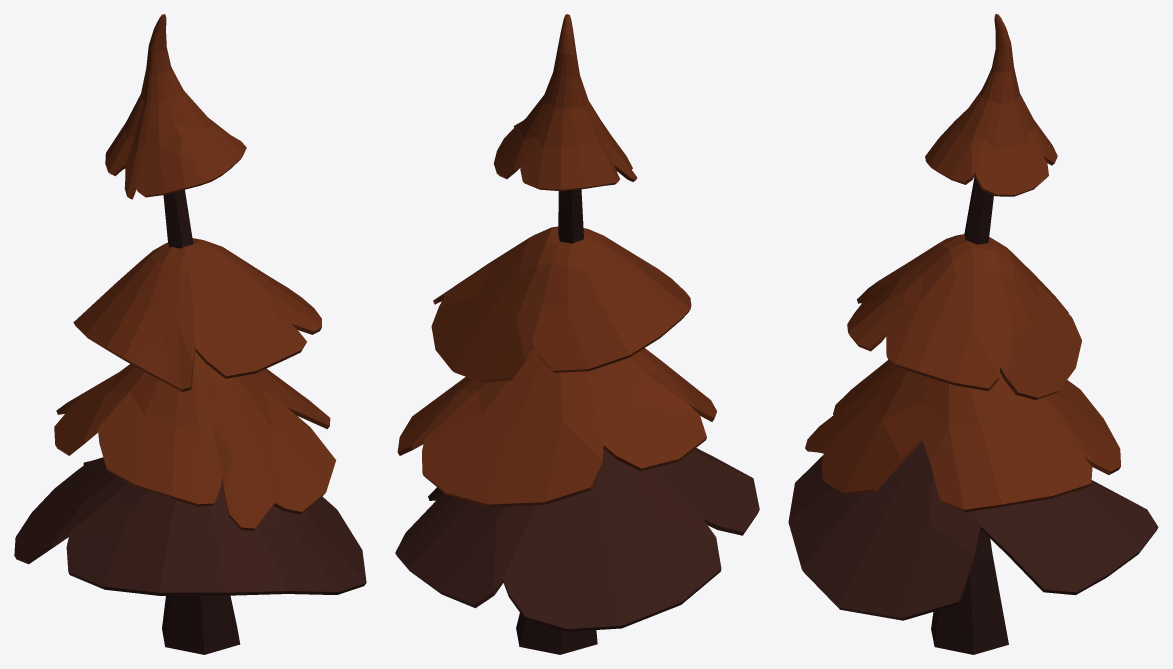
The model's file is PineTree_Autumn_2.obj.
3 views of the same model, side by side, from view 1: azimuth 30°, elevation 25°; view 2: azimuth 150°, elevation 25°; view 3: azimuth 270°, elevation 25° (orthographic). The views are drawn at different scales.
Visible parts, largest first — view 1: PineTree_Autumn_2_Cylinder.064; view 2: PineTree_Autumn_2_Cylinder.064; view 3: PineTree_Autumn_2_Cylinder.064.
Part boxes in pixels (left/top/right/bottom): PineTree_Autumn_2_Cylinder.064: left=14, top=14, right=366, bottom=654; PineTree_Autumn_2_Cylinder.064: left=395, top=14, right=759, bottom=654; PineTree_Autumn_2_Cylinder.064: left=788, top=14, right=1158, bottom=654.
Size of the model in its own units: 1.8 by 3.56 by 1.96.
